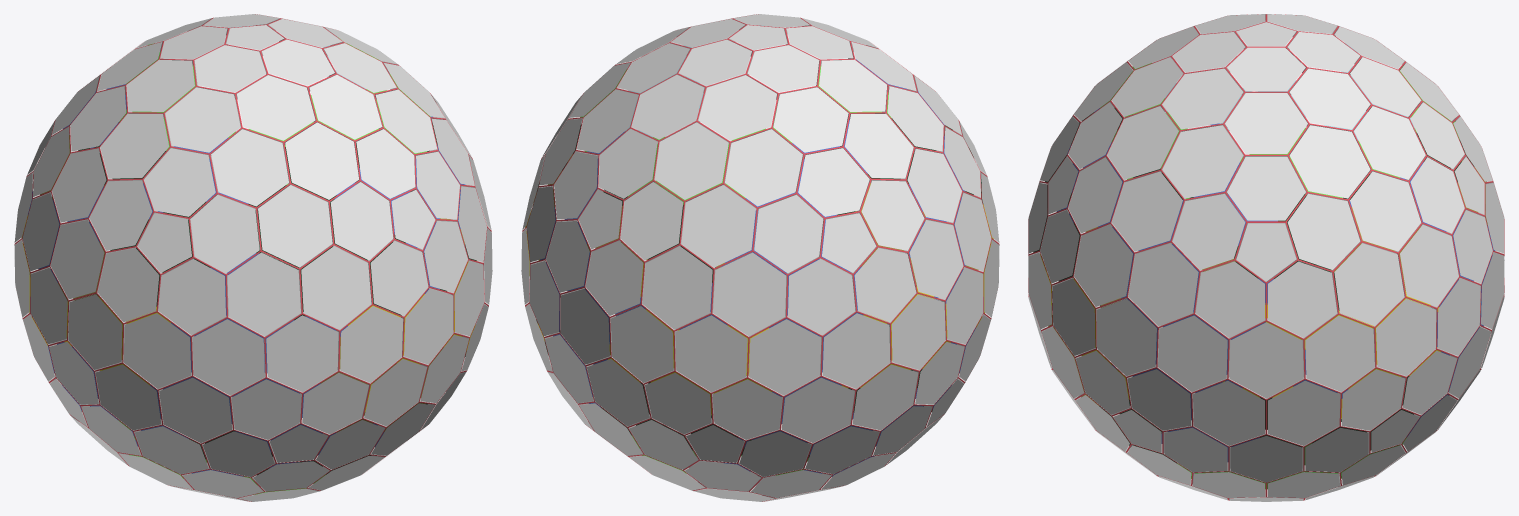
The model's file is HexagonWorldDetailed3.fbx.
3 renders of one model, left to right at view 1: azimuth 30°, elevation 25°; view 2: azimuth 150°, elevation 25°; view 3: azimuth 270°, elevation 25°, orthographic.
Parts seen in each view (by area): view 1: DualMesh, DualMesh.003, DualMesh.004, DualMesh.015, Ground, DualMesh.022, DualMesh.012, DualMesh.013, DualMesh.016, Water, DualMesh.023, DualMesh.014 (+2 smaller); view 2: DualMesh, DualMesh.003, DualMesh.008, DualMesh.004, DualMesh.009, Ground, DualMesh.010, DualMesh.011, DualMesh.006, Water, DualMesh.022, DualMesh.007 (+3 smaller); view 3: DualMesh, DualMesh.003, DualMesh.004, DualMesh.017, Ground, DualMesh.020, DualMesh.016, DualMesh.014, Water, DualMesh.005, DualMesh.023, DualMesh.027 (+1 smaller).
Part boxes in pixels (box(x1,y1,x2,y2)): DualMesh: box(14, 14, 492, 501); DualMesh.003: box(27, 14, 491, 501); DualMesh.004: box(14, 18, 488, 457); DualMesh.015: box(256, 184, 334, 269); Ground: box(21, 30, 476, 494); DualMesh.022: box(99, 112, 170, 182); DualMesh.012: box(97, 246, 162, 322); DualMesh.013: box(362, 357, 428, 427); DualMesh.016: box(374, 88, 438, 157); Water: box(28, 25, 465, 476); DualMesh.023: box(259, 39, 336, 91); DualMesh.014: box(447, 259, 484, 337); DualMesh: box(521, 14, 999, 501); DualMesh.003: box(530, 27, 991, 501); DualMesh.008: box(640, 244, 715, 331); DualMesh.004: box(525, 14, 999, 491); DualMesh.009: box(653, 121, 730, 201); Ground: box(525, 26, 993, 492); DualMesh.010: box(858, 178, 925, 252); DualMesh.011: box(889, 292, 946, 371); DualMesh.006: box(585, 355, 651, 427); Water: box(540, 25, 975, 476); DualMesh.022: box(882, 85, 944, 153); DualMesh.007: box(628, 449, 707, 490); DualMesh: box(1028, 14, 1504, 501); DualMesh.003: box(1028, 14, 1504, 500); DualMesh.004: box(1028, 26, 1504, 500); DualMesh.017: box(1331, 241, 1406, 327); Ground: box(1033, 20, 1487, 489); DualMesh.020: box(1265, 379, 1341, 447); DualMesh.016: box(1106, 104, 1180, 181); DualMesh.014: box(1051, 276, 1096, 357); Water: box(1056, 43, 1495, 461); DualMesh.005: box(1401, 348, 1458, 416); DualMesh.023: box(1171, 32, 1246, 74); DualMesh.027: box(1265, 465, 1341, 498).
Size of the model in its own units: 202 by 208 by 202.
